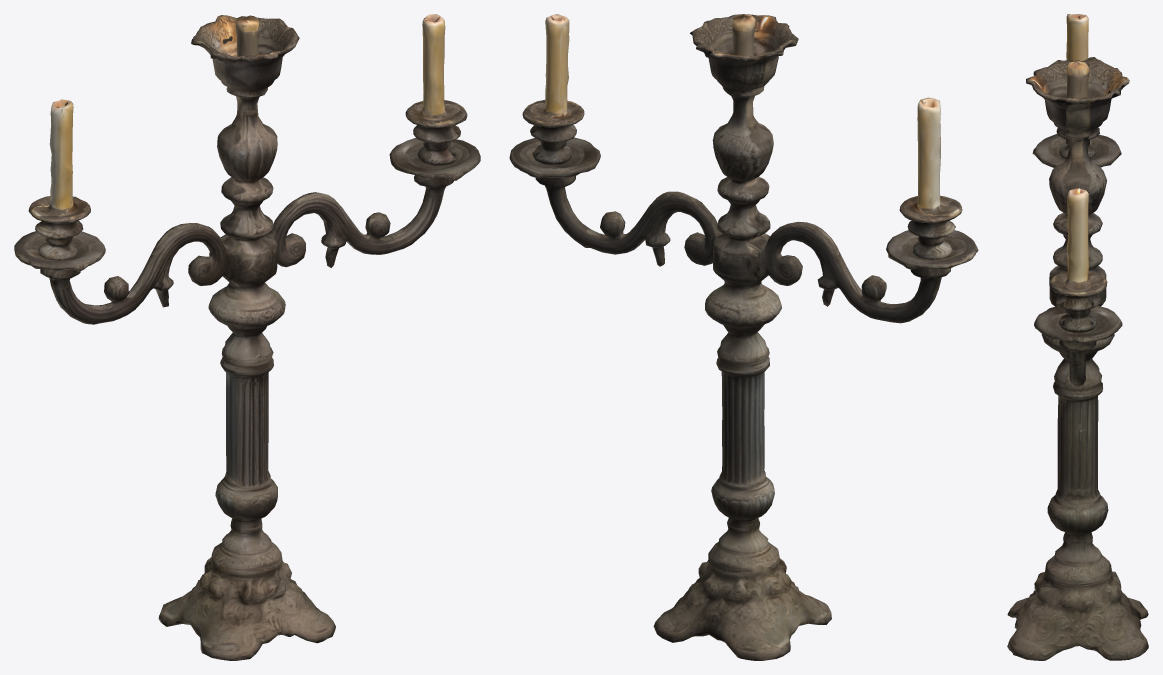
The model's file is candelabra.glb.
3 views of the same model, side by side, from view 1: azimuth 30°, elevation 25°; view 2: azimuth 150°, elevation 25°; view 3: azimuth 270°, elevation 25° (orthographic). The views are drawn at different scales.
Visible parts, largest first — view 1: Mesh1.0; view 2: Mesh1.0; view 3: Mesh1.0.
Boxes of the visible parts, left/top/right/bottom form: Mesh1.0: left=14, top=14, right=480, bottom=660; Mesh1.0: left=509, top=14, right=978, bottom=660; Mesh1.0: left=1007, top=14, right=1148, bottom=660.
Size of the model in its own units: 1.43 by 1.82 by 0.4082.
1 material, 1 textured.
